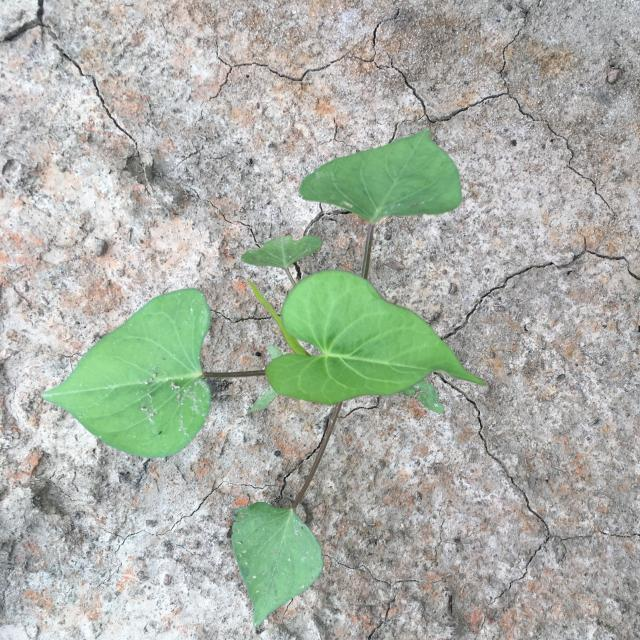MorningGlory: (42, 128, 488, 628)
